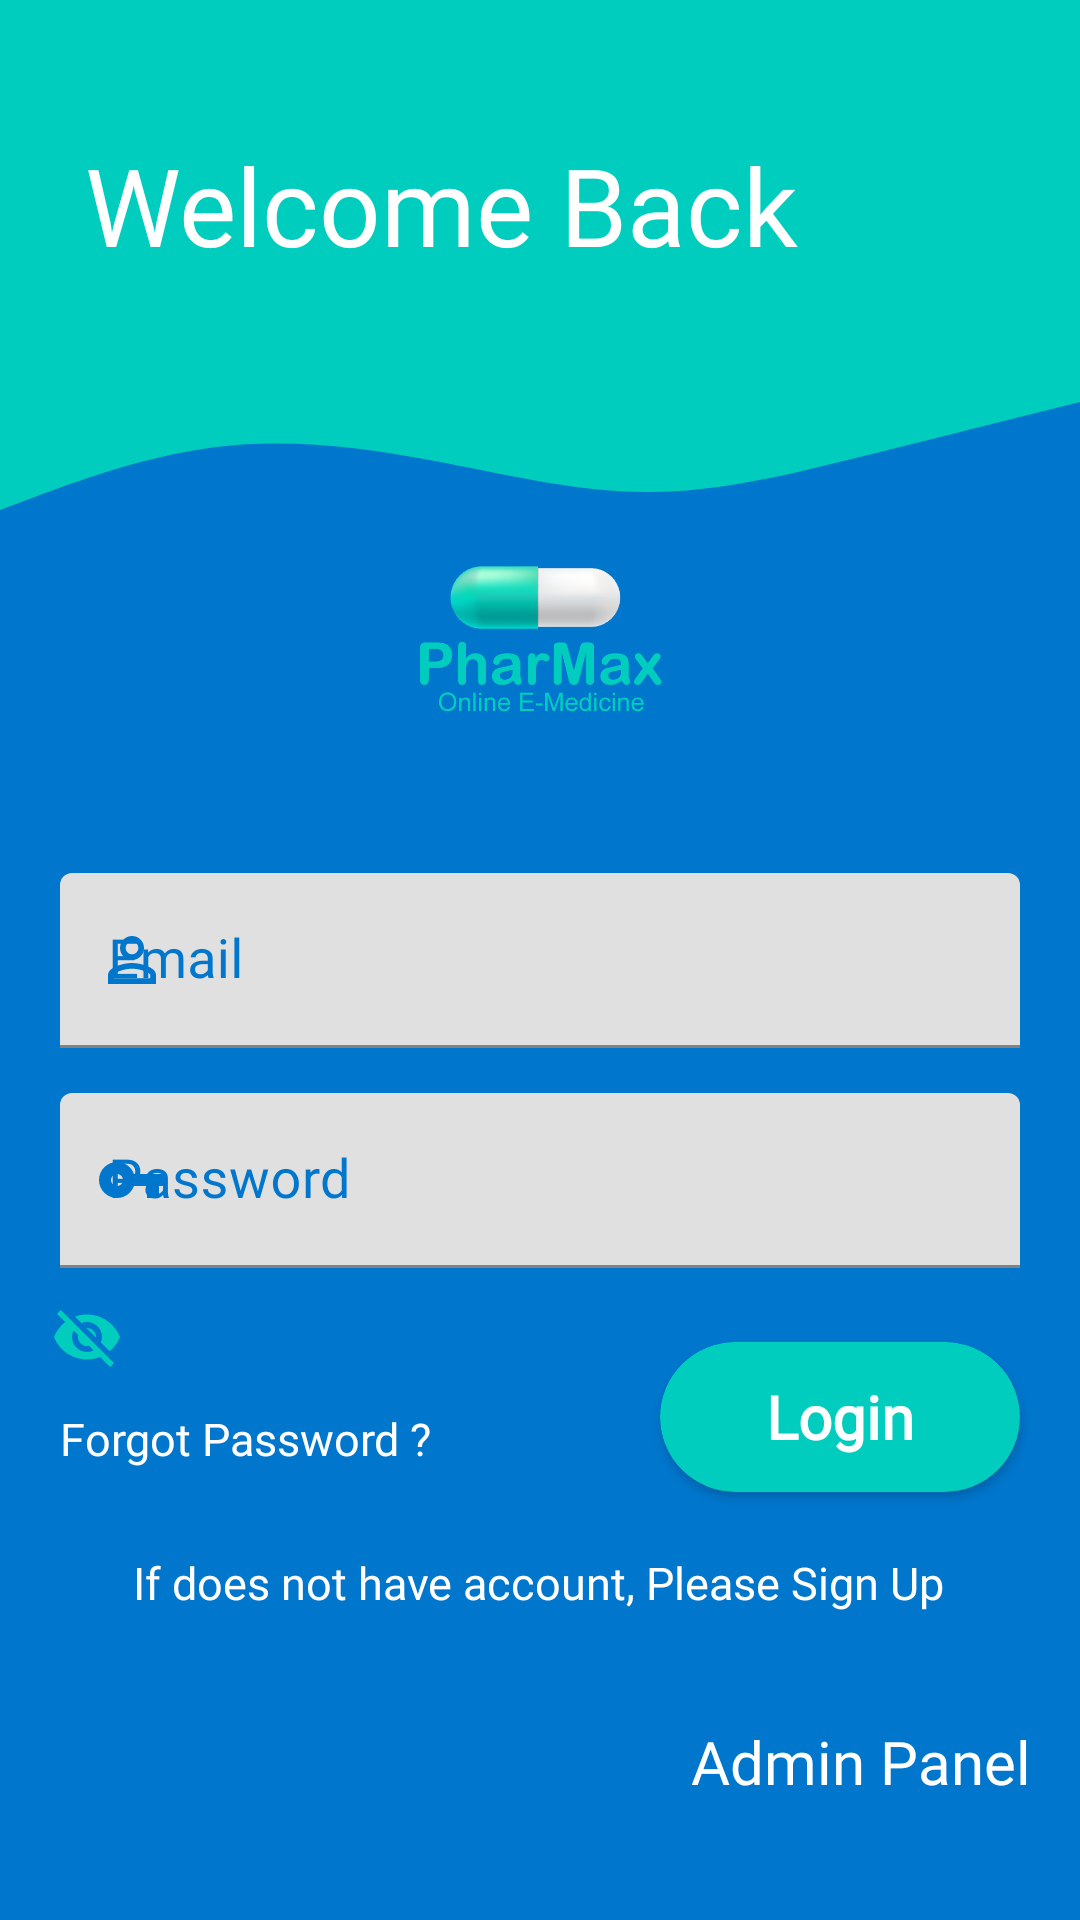

Screen size 1080px x 1920px. Icon name, then its box in pixels as (x1, y1, x2, y2):
visibility off: (54, 1310, 120, 1367)
